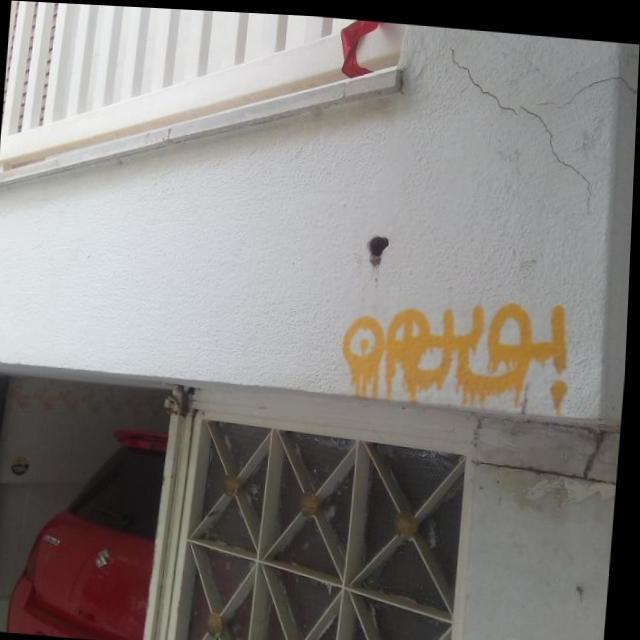-: (342, 285, 576, 411)
